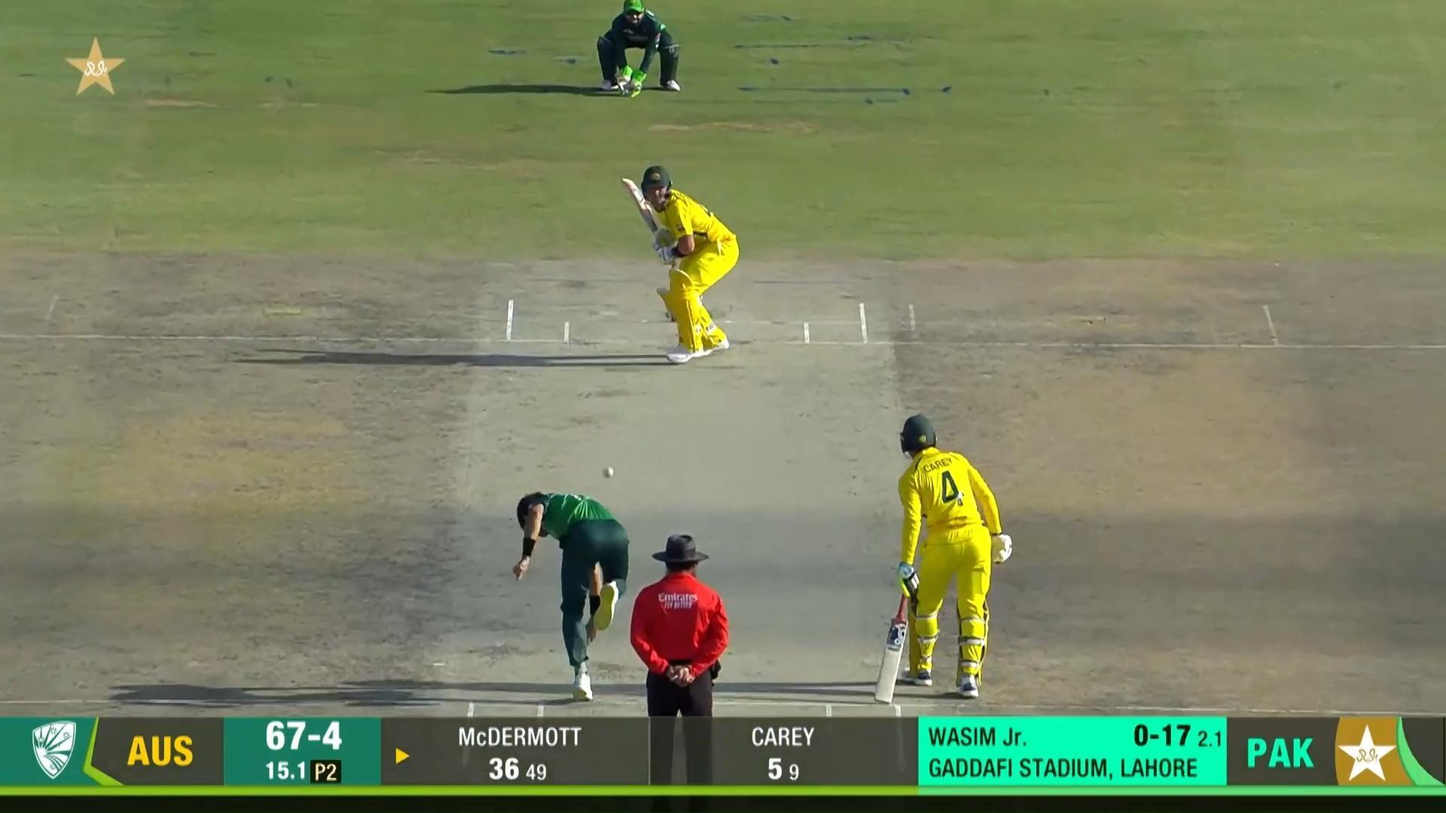BM 1: (621, 165, 740, 364)
BO: (511, 490, 631, 703)
